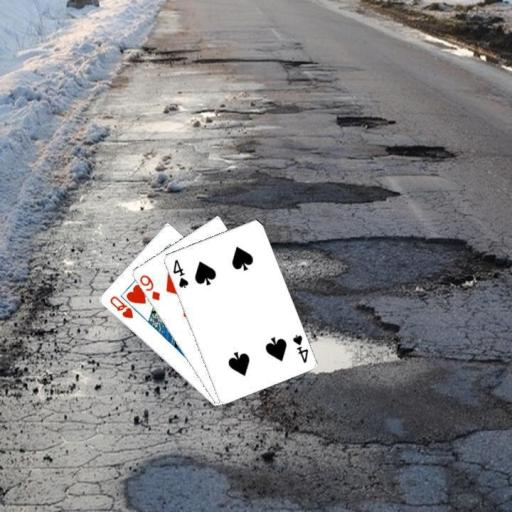card-corner: (106, 293, 134, 320), (136, 272, 161, 302), (169, 256, 190, 289), (290, 331, 310, 364)
